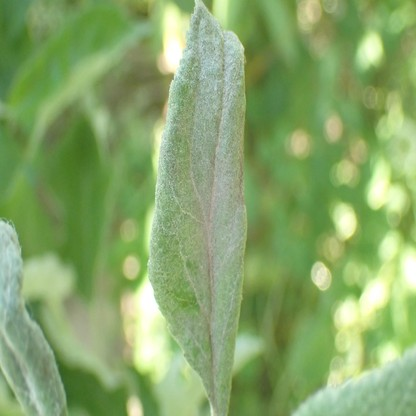powdery_mildew: (148, 1, 246, 416), (1, 216, 70, 416), (295, 346, 416, 416)
